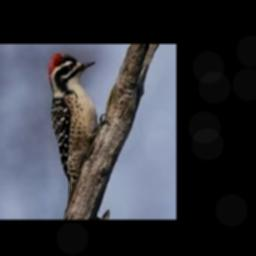Woodpecker: (46, 53, 109, 202)
